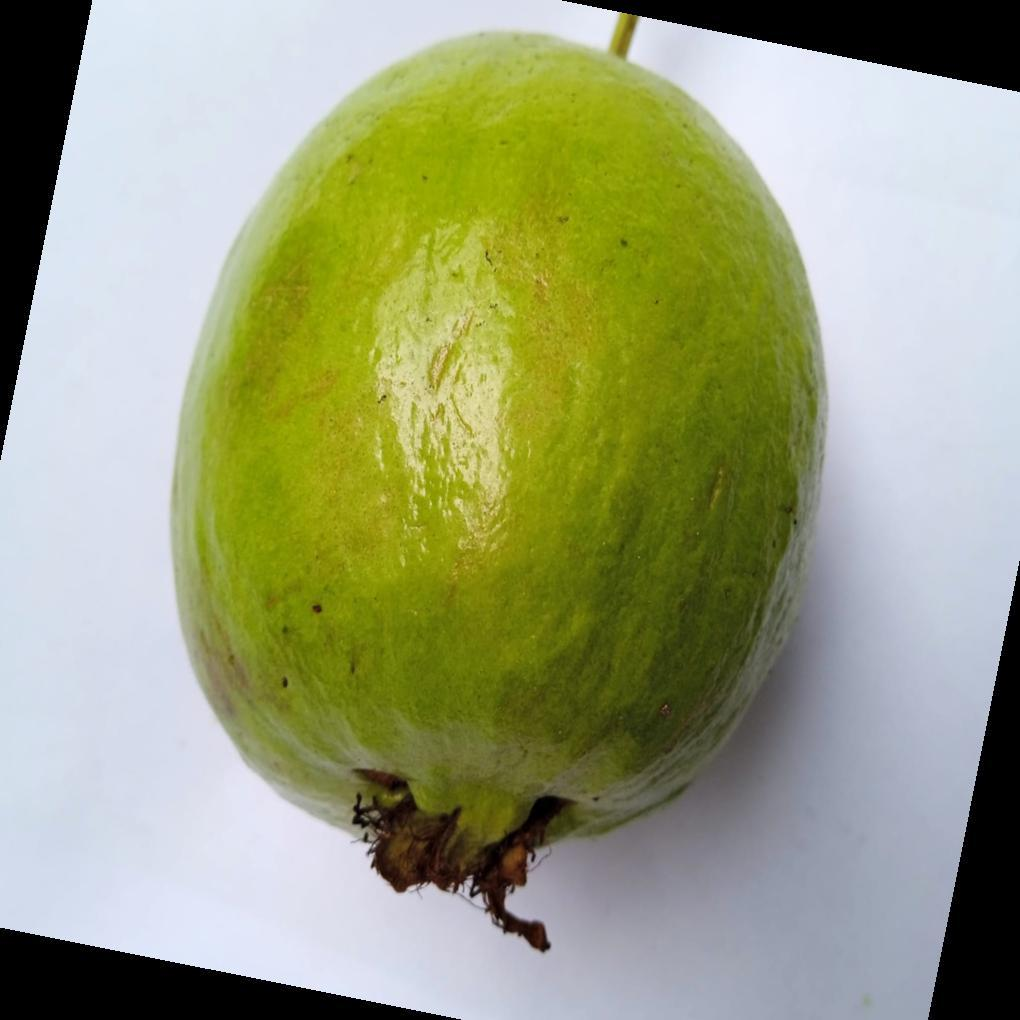FreshGuava: (166, 30, 829, 947)
